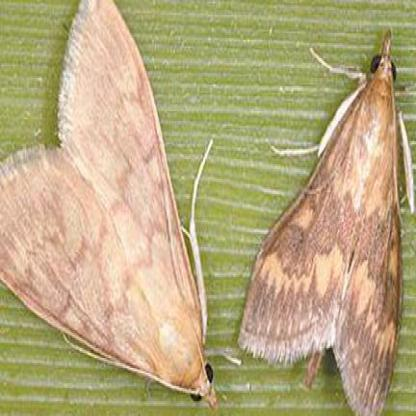stem-borer: (0, 0, 227, 416), (236, 27, 415, 416)
